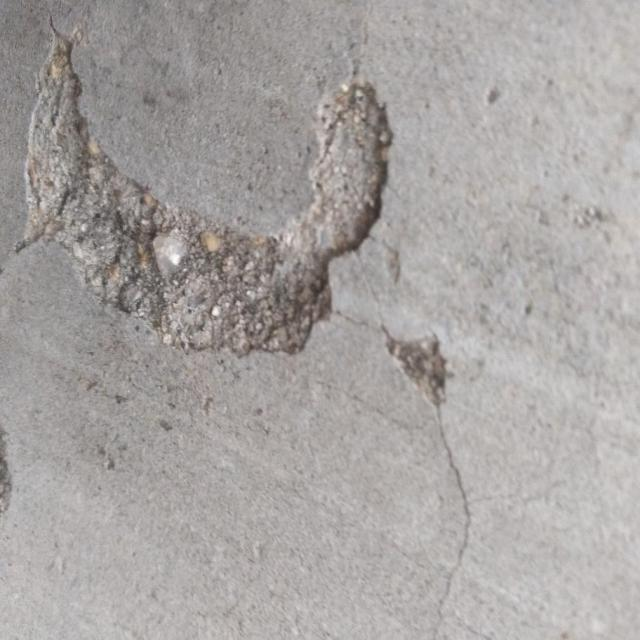concrete spalling: (15, 14, 393, 356), (382, 327, 452, 407)
vertical crack: (315, 380, 470, 639)
